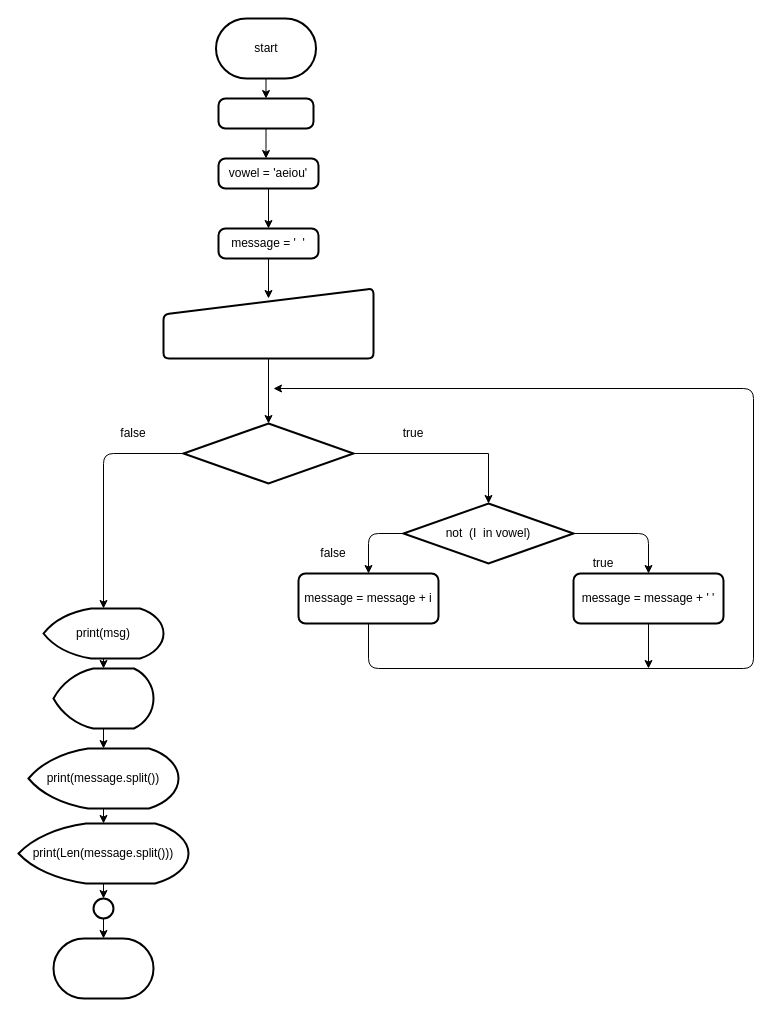
The diagram is 779 pixels wide and 1016 high, and some of its shapes have lost their labels. The shapes that lost their labels are listed below. From the top down, each one's centre as x and y in pixels, then its label:
(265,113): count = 0
(268,323): msg = input ("Enter your string : ")
(268,453): for i in msg :
(103,698): print(message)
(103,968): End
